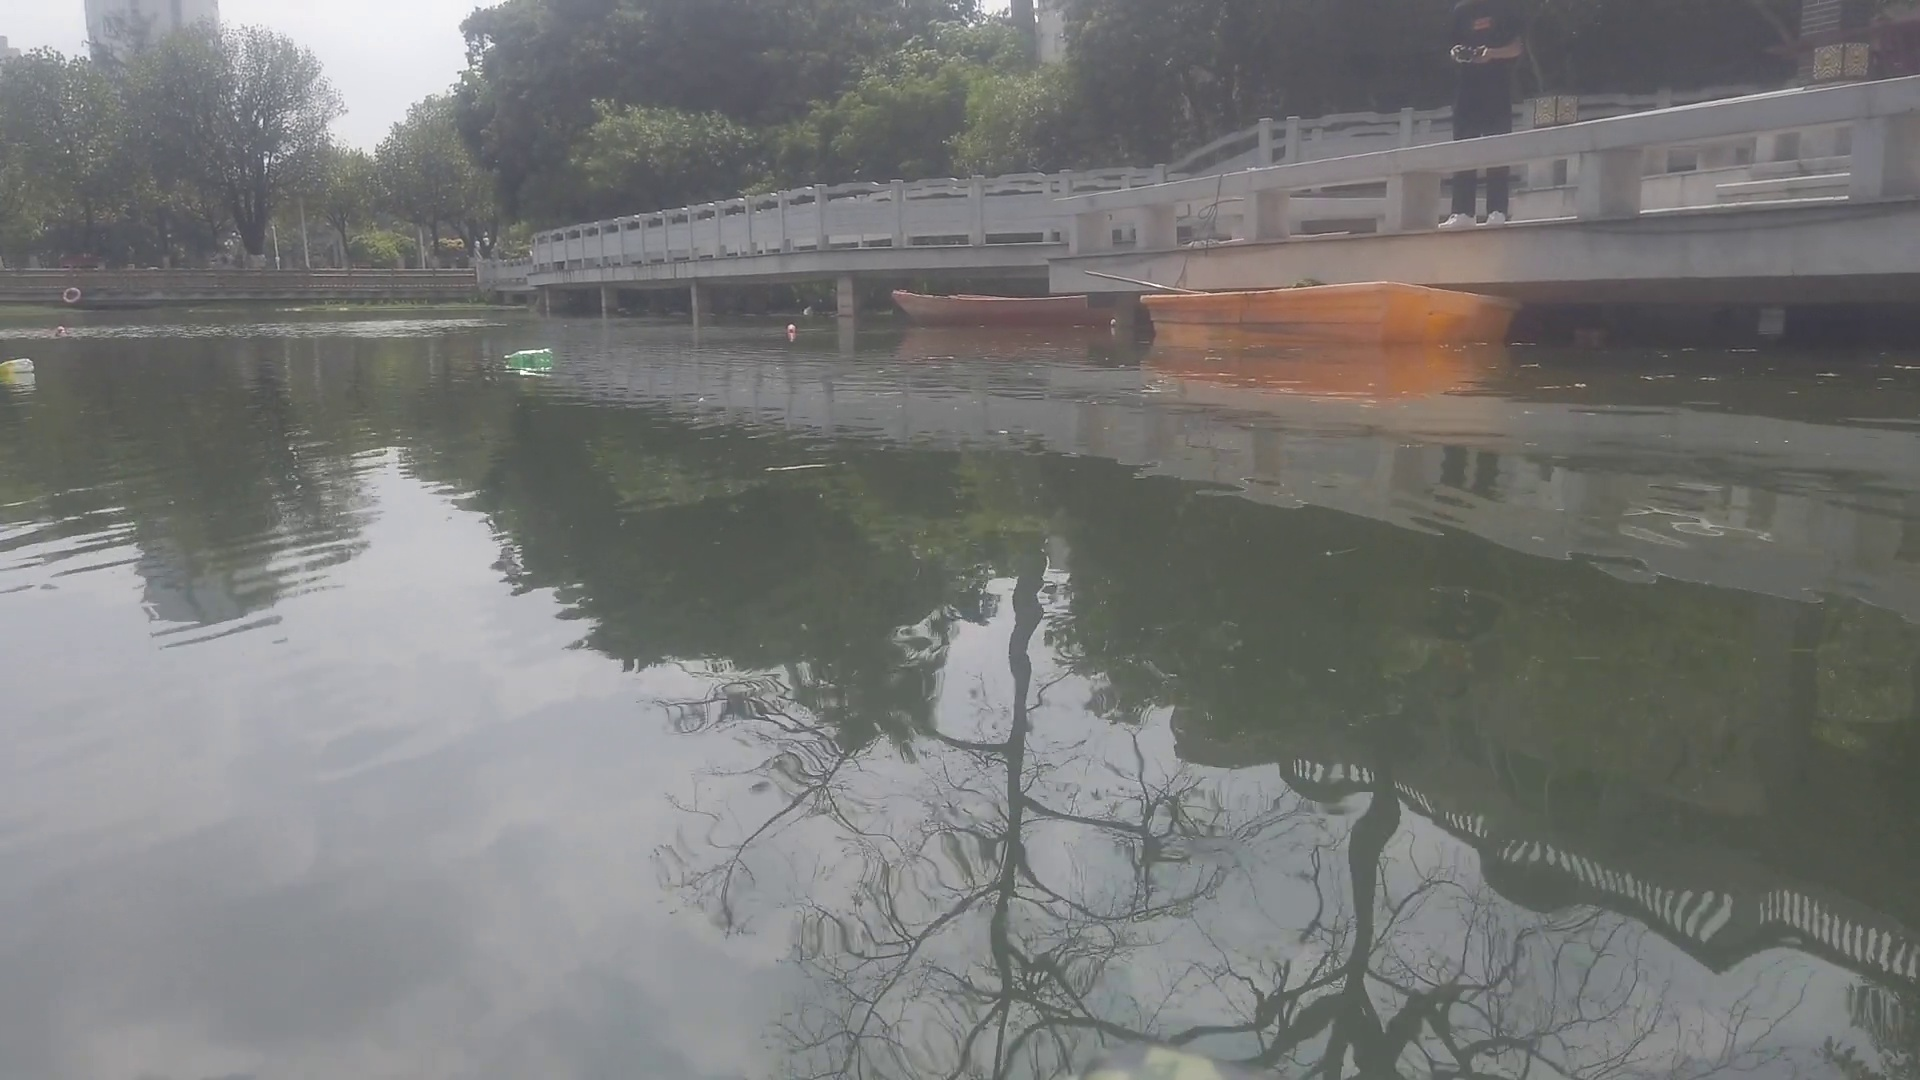bottle: (500, 344, 551, 365), (1, 355, 32, 373), (785, 323, 800, 334), (55, 324, 65, 335)
